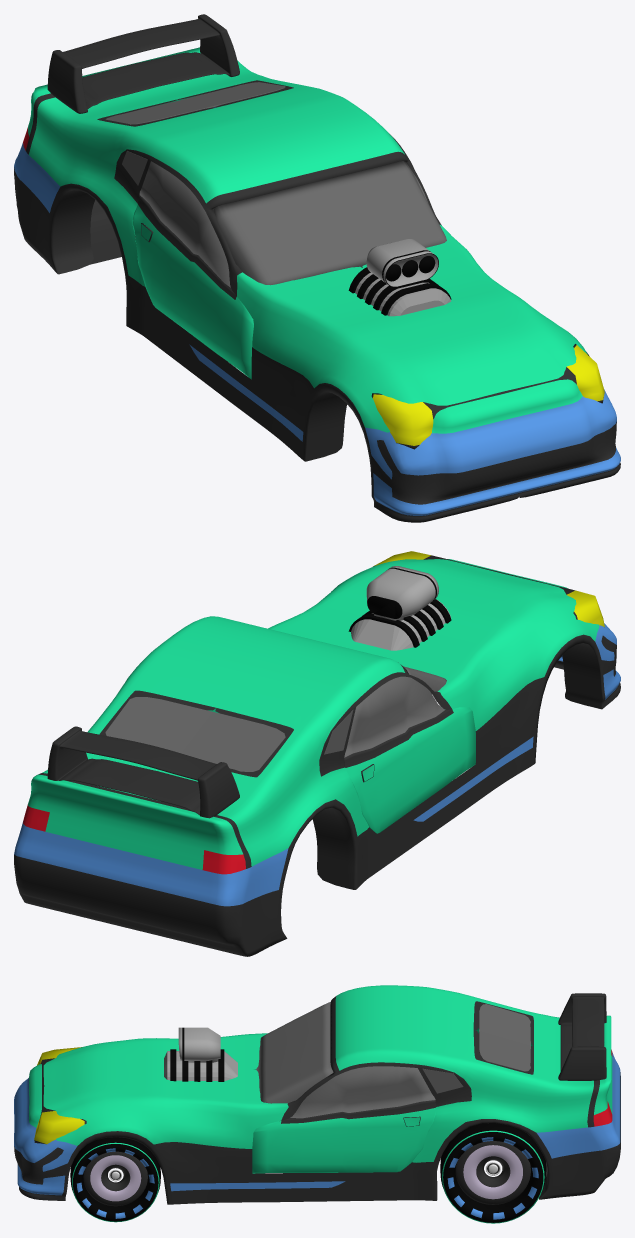
The model's file is Car3.v2.fbx.
3 renders of one model, top to bottom at view 1: azimuth 30°, elevation 25°; view 2: azimuth 150°, elevation 25°; view 3: azimuth 270°, elevation 25°, orthographic. The views are drawn at different scales.
Parts seen in each view (by area): view 1: CarMain, WindowFront, Doors, Spoiler, FrontLights, EngineBotom, EngineTop, WindowBack; view 2: CarMain, Doors, Spoiler, WindowBack, EngineBotom, EngineTop, FrontLights, WindowsBackSmall; view 3: CarMain, Doors, WheelsBack, Wheels, WindowFront, Spoiler, WindowBack, EngineBotom, FrontLights, EngineTop, WindowsBackSmall.
Part boxes in pixels (x1,y1,x2,y2): CarMain: (14, 47, 620, 522); WindowFront: (213, 161, 446, 285); Doors: (132, 161, 427, 379); Spoiler: (47, 14, 239, 113); FrontLights: (371, 344, 604, 449); EngineBotom: (348, 267, 451, 316); EngineTop: (366, 239, 438, 287); WindowBack: (105, 82, 285, 124); CarMain: (14, 559, 620, 956); Doors: (208, 676, 475, 833); Spoiler: (47, 726, 239, 818); WindowBack: (105, 697, 285, 771); EngineBotom: (348, 599, 451, 650); EngineTop: (366, 566, 438, 620); FrontLights: (372, 551, 604, 627); WindowsBackSmall: (324, 710, 353, 754); CarMain: (14, 985, 620, 1204); Doors: (252, 1066, 436, 1173); WheelsBack: (440, 1123, 546, 1223); Wheels: (70, 1137, 160, 1222); WindowFront: (256, 1001, 333, 1103); Spoiler: (558, 993, 606, 1080); WindowBack: (479, 1004, 530, 1071); EngineBotom: (164, 1049, 237, 1081); FrontLights: (34, 1047, 86, 1144); EngineTop: (178, 1027, 220, 1062); WindowsBackSmall: (422, 1068, 463, 1093).
Size of the model in its own units: 242 by 202 by 689.
